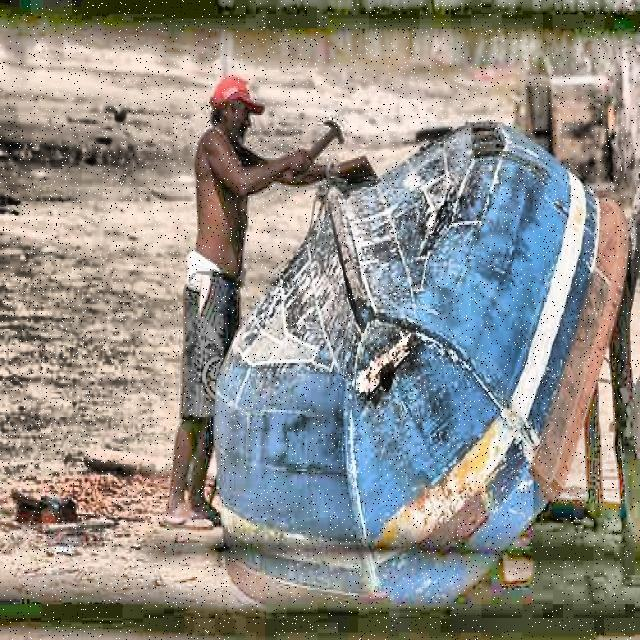hammer: (296, 118, 347, 174)
